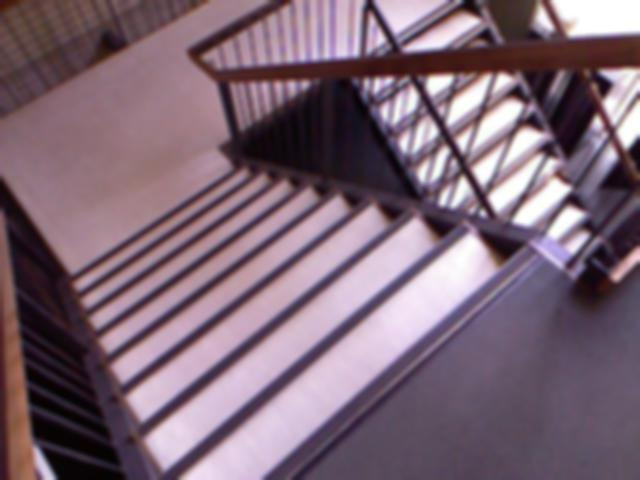Escaleras: (0, 168, 522, 479), (356, 30, 639, 323)
